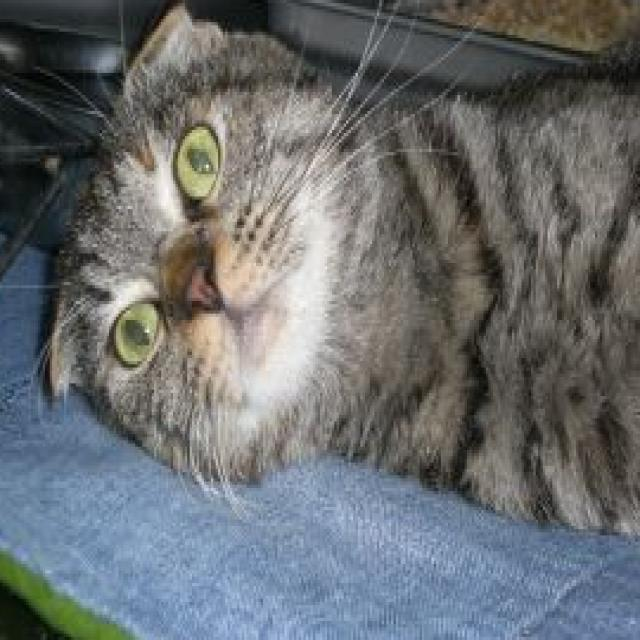Scottish Fold: (35, 0, 640, 545)
